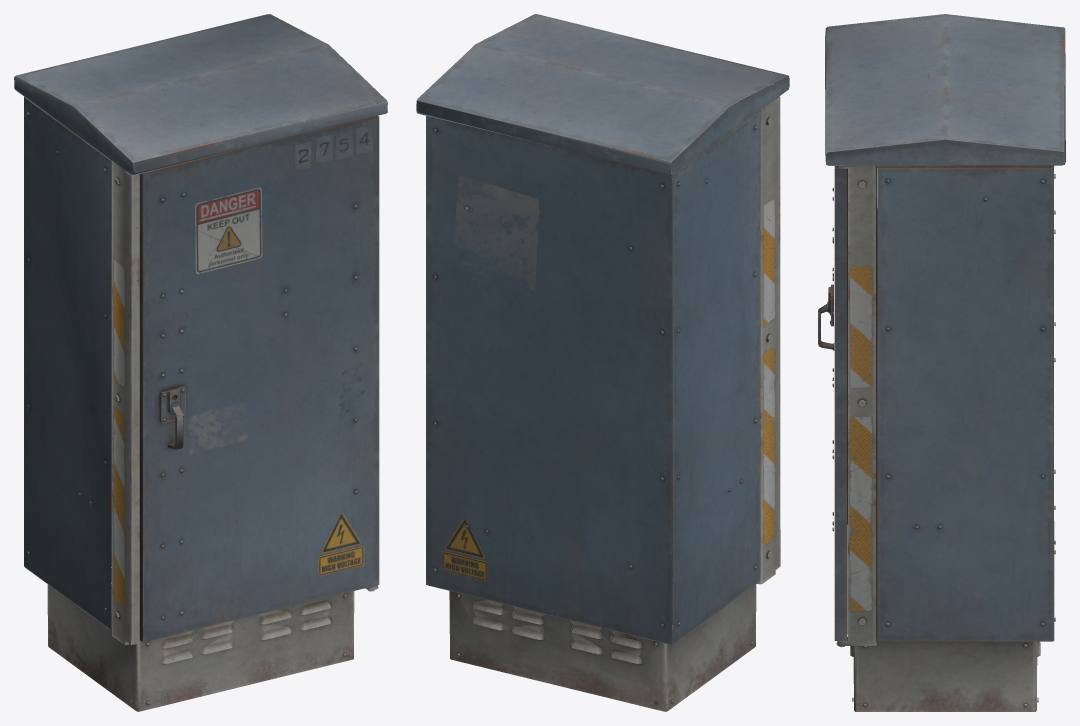
Rendered from utility_box_01.glb.
3 views of the same model, side by side, from view 1: azimuth 30°, elevation 25°; view 2: azimuth 150°, elevation 25°; view 3: azimuth 270°, elevation 25° (orthographic).
Visible parts, largest first — view 1: utility_box_01_box; view 2: utility_box_01_box; view 3: utility_box_01_box.
Part boxes in pixels (x1,y1,x2,y2): utility_box_01_box: [14, 14, 387, 711]; utility_box_01_box: [416, 14, 789, 711]; utility_box_01_box: [818, 14, 1065, 711].
Bounding box in the file's own units: 0.4588 × 0.9906 × 0.3823.
1 material, 1 textured.
